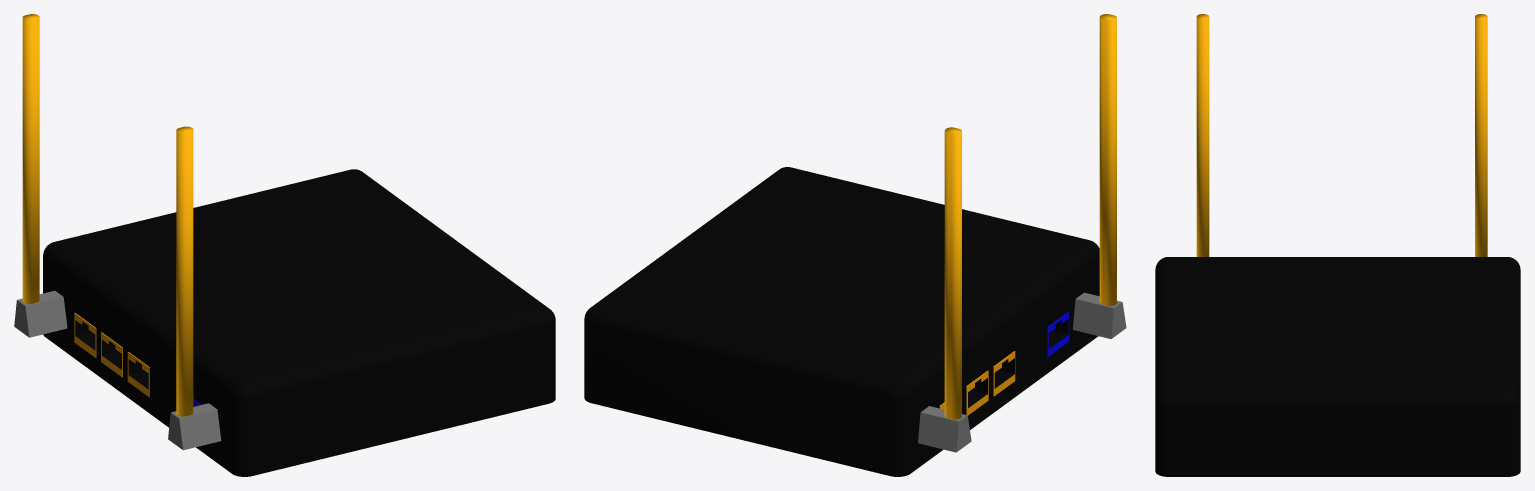
Rendered from router.obj.
The picture shows the model from 3 angles, left to right: view 1: azimuth 30°, elevation 25°; view 2: azimuth 150°, elevation 25°; view 3: azimuth 270°, elevation 25°; orthographic projection. The views are drawn at different scales.
Visible parts, largest first — view 1: Cube.001_TOP_BOTTOM, Cube_SIDE, Cube.006_BACK, Cube.012_Anteny, Cube.011_Anteny, Cube.010_Anteny, Cube.002_Anteny; view 2: Cube.001_TOP_BOTTOM, Cube_SIDE, Cube.006_BACK, Cube.011_Anteny, Cube.012_Anteny, Cube.002_Anteny, Cube.010_Anteny; view 3: Cube.001_TOP_BOTTOM, Cube_SIDE, Cube.012_Anteny, Cube.011_Anteny.
Boxes of the visible parts, x1,y1,x2,y2 form: Cube.001_TOP_BOTTOM: (46,169,552,389); Cube_SIDE: (241,310,555,476); Cube.006_BACK: (43,247,241,476); Cube.012_Anteny: (176,126,193,416); Cube.011_Anteny: (22,14,39,303); Cube.010_Anteny: (168,403,221,450); Cube.002_Anteny: (14,290,67,337); Cube.001_TOP_BOTTOM: (587,167,1097,389); Cube_SIDE: (584,309,901,476); Cube.006_BACK: (901,245,1099,476); Cube.011_Anteny: (944,127,961,419); Cube.012_Anteny: (1099,14,1116,305); Cube.002_Anteny: (918,406,971,452); Cube.010_Anteny: (1073,292,1126,338); Cube.001_TOP_BOTTOM: (1159,257,1516,397); Cube_SIDE: (1155,261,1520,476); Cube.012_Anteny: (1196,14,1209,256); Cube.011_Anteny: (1475,14,1487,256).
Bounding box in the file's own units: 15.55 × 14.3 × 15.09.
Materials: 8 (1 with a texture image).
